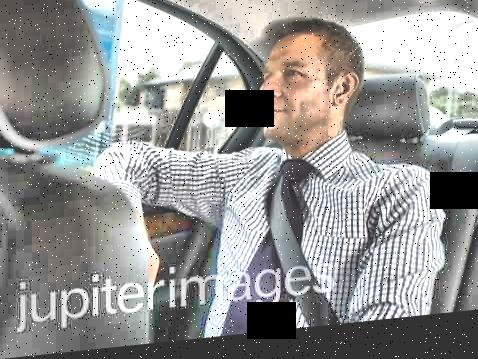seatbelt: (251, 167, 335, 322)
